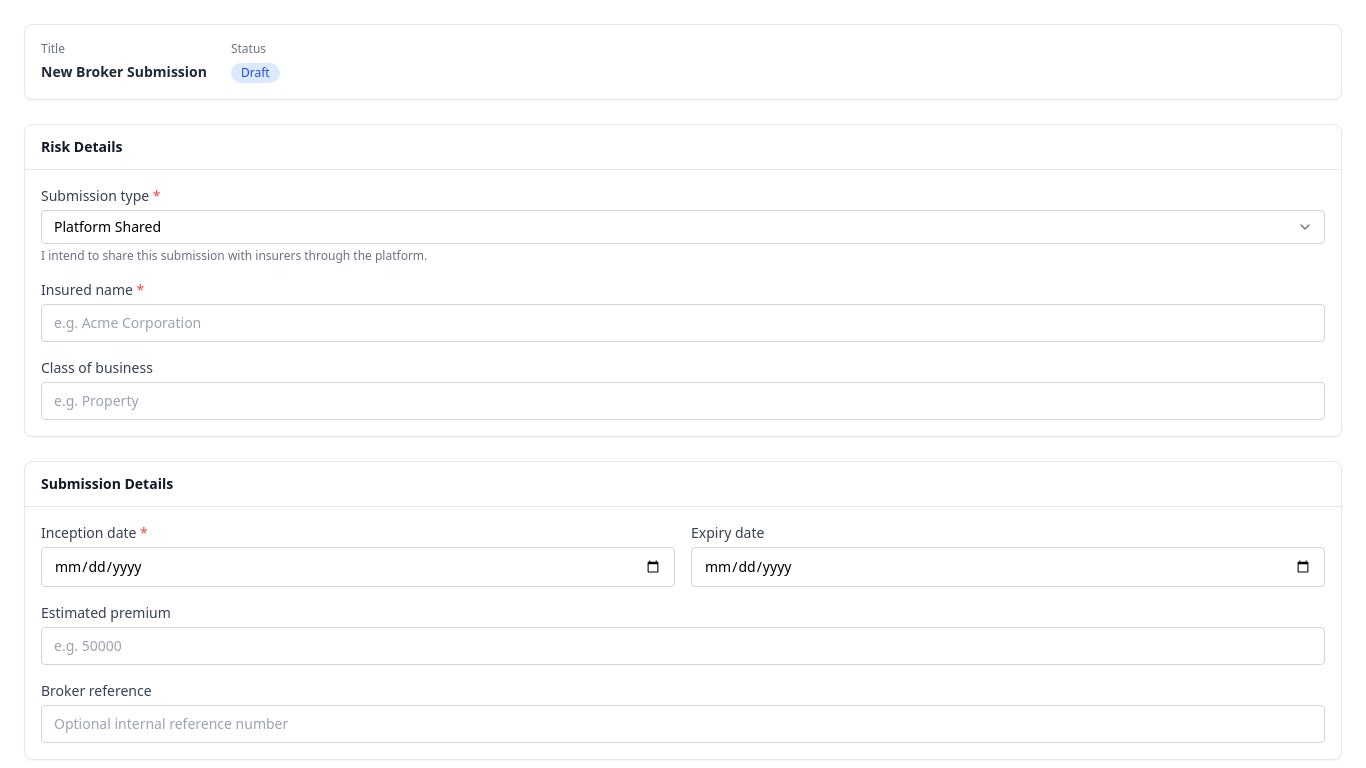
REQ-PSS-BRK-NEW-F-006 — Expiry date default › T-PSS-BRK-NEW-F006: changing the inception date updates the expiry date to exactly one year later
This screenshot has width=1366, height=768.
Type "2026-03-15" into the date field labelled "Inception date *". click: (358, 567)
box: left=41, top=547, right=675, bottom=587
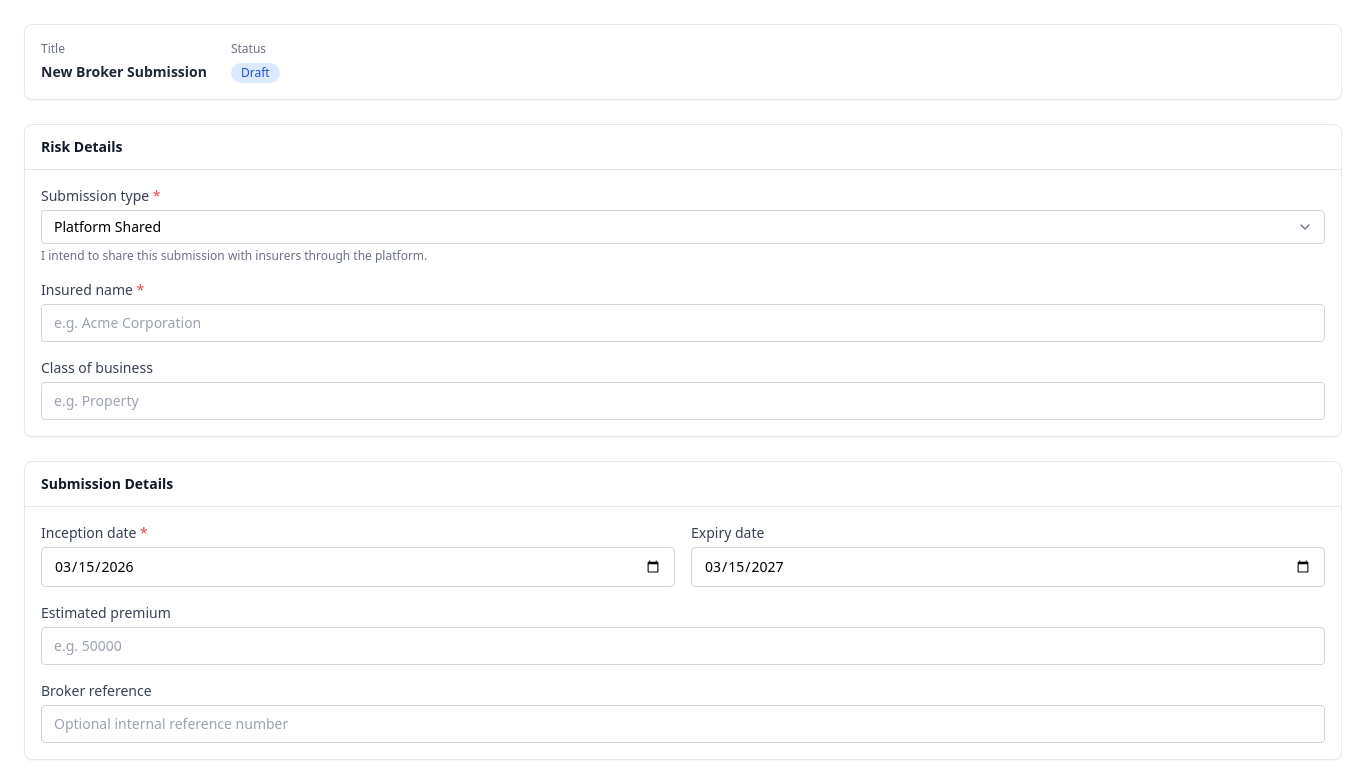
Expected: the date field labelled "Expiry date" holds "2027-03-15", left=691, top=547, right=1325, bottom=587
